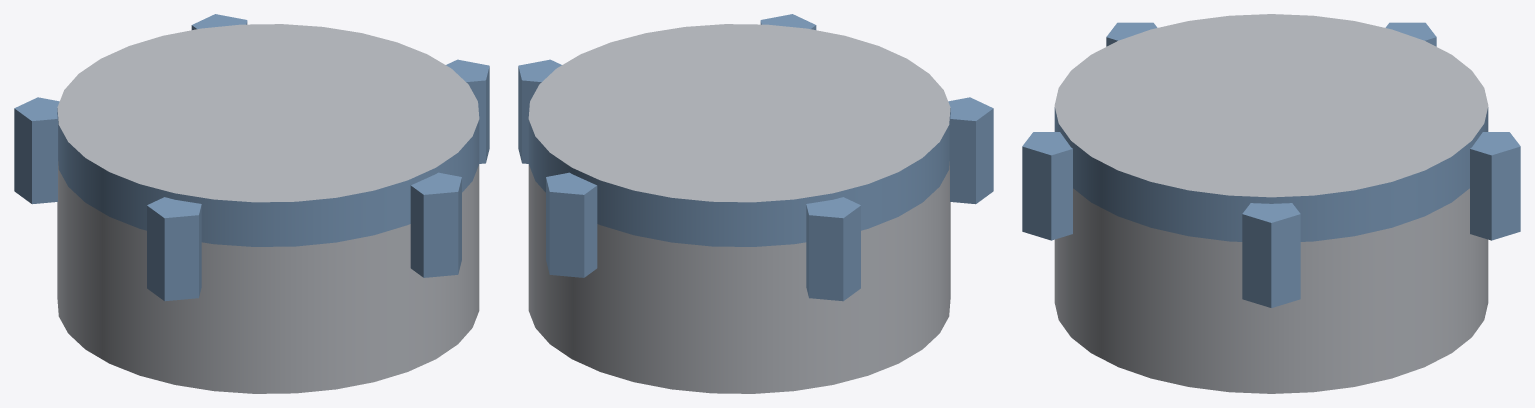
3 views of the same model, side by side, from view 1: azimuth 30°, elevation 25°; view 2: azimuth 150°, elevation 25°; view 3: azimuth 270°, elevation 25° (orthographic). The views are drawn at different scales.
Parts seen in each view (by area): view 1: ratchet_5-60; view 2: ratchet_5-60; view 3: ratchet_5-60.
Part boxes in pixels (x1,y1,x2,y2): ratchet_5-60: (14, 14, 489, 393); ratchet_5-60: (518, 14, 993, 393); ratchet_5-60: (1022, 14, 1520, 393).
Size of the model in its own units: 13.25 by 6 by 13.79.
